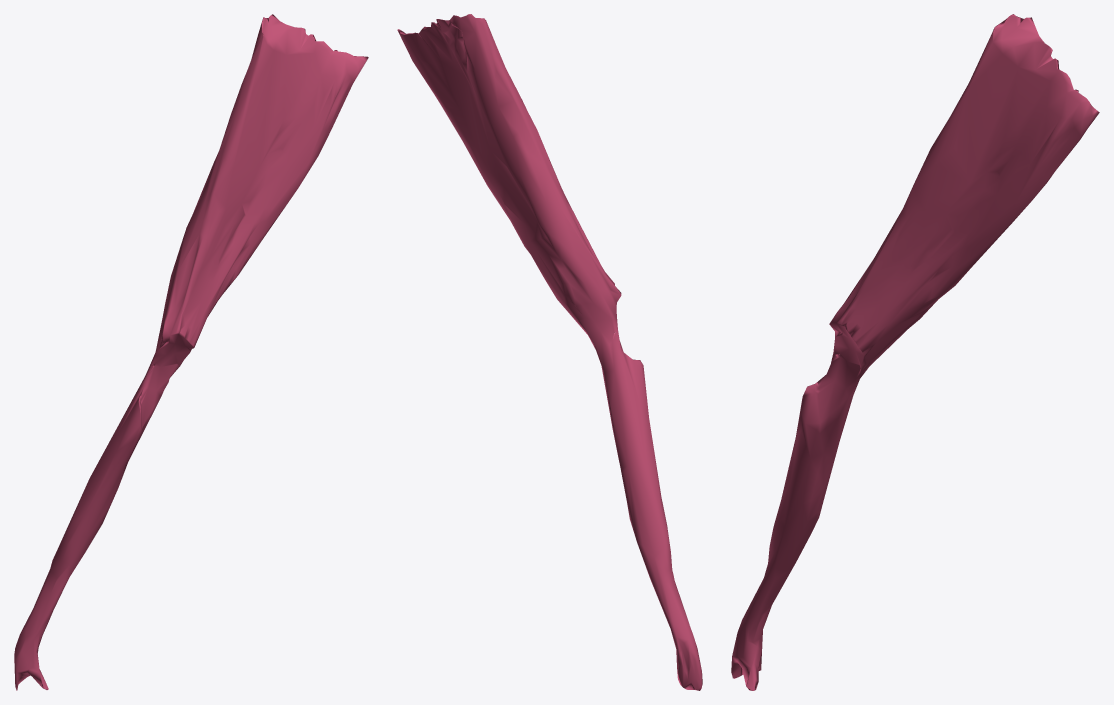
The picture shows the model from 3 angles, left to right: view 1: azimuth 30°, elevation 25°; view 2: azimuth 150°, elevation 25°; view 3: azimuth 330°, elevation 25°; orthographic projection. The views are drawn at different scales.
Parts seen in each view (by area): view 1: 右侧小趾展肌; view 2: 右侧小趾展肌; view 3: 右侧小趾展肌.
Part boxes in pixels (x1,y1,x2,y2): 右侧小趾展肌: (14, 14, 368, 690); 右侧小趾展肌: (397, 14, 702, 690); 右侧小趾展肌: (731, 14, 1099, 690).
Size of the model in its own units: 0.1045 by 0.1878 by 0.0243.
